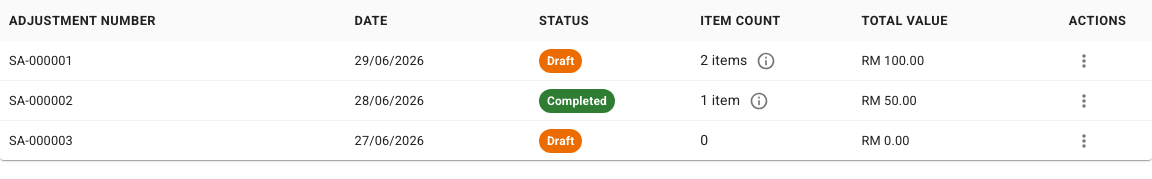
Scenario: shows a spinner (not an empty list) before the first fetch settles
Click the button named "show products" next to "2 items": point(766, 60) [752, 46, 782, 76]
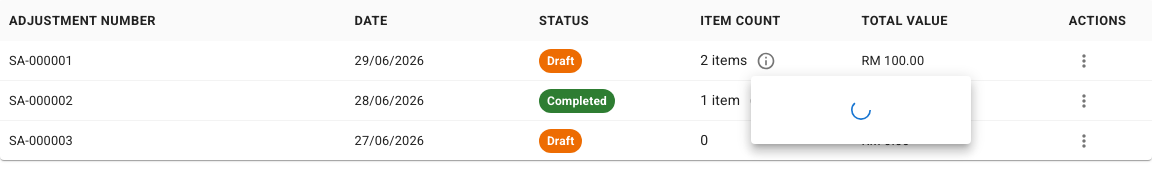
Now the progress indicator is shown, box [851, 100, 871, 120]
